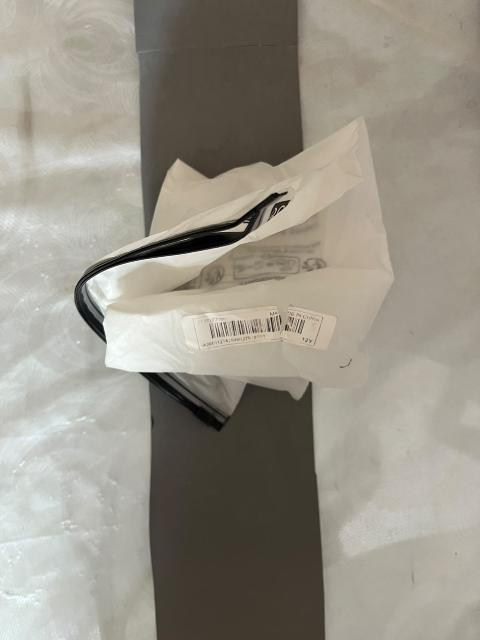LDPE: (52, 100, 417, 449)
